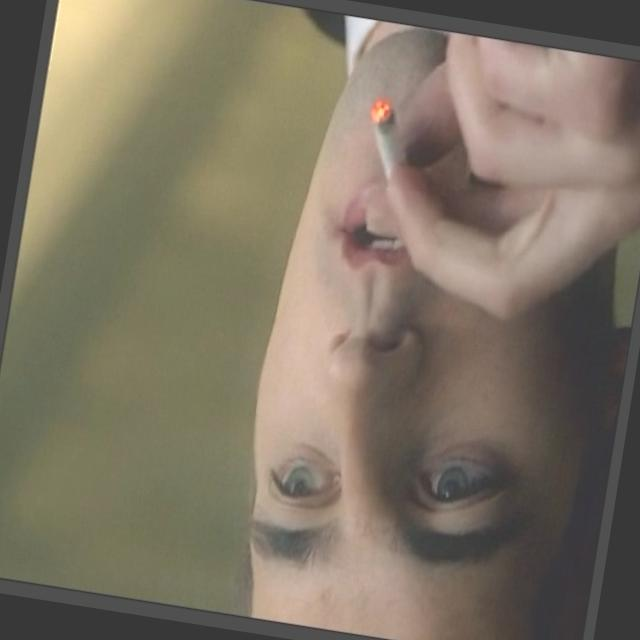cigarette: (356, 74, 450, 215)
